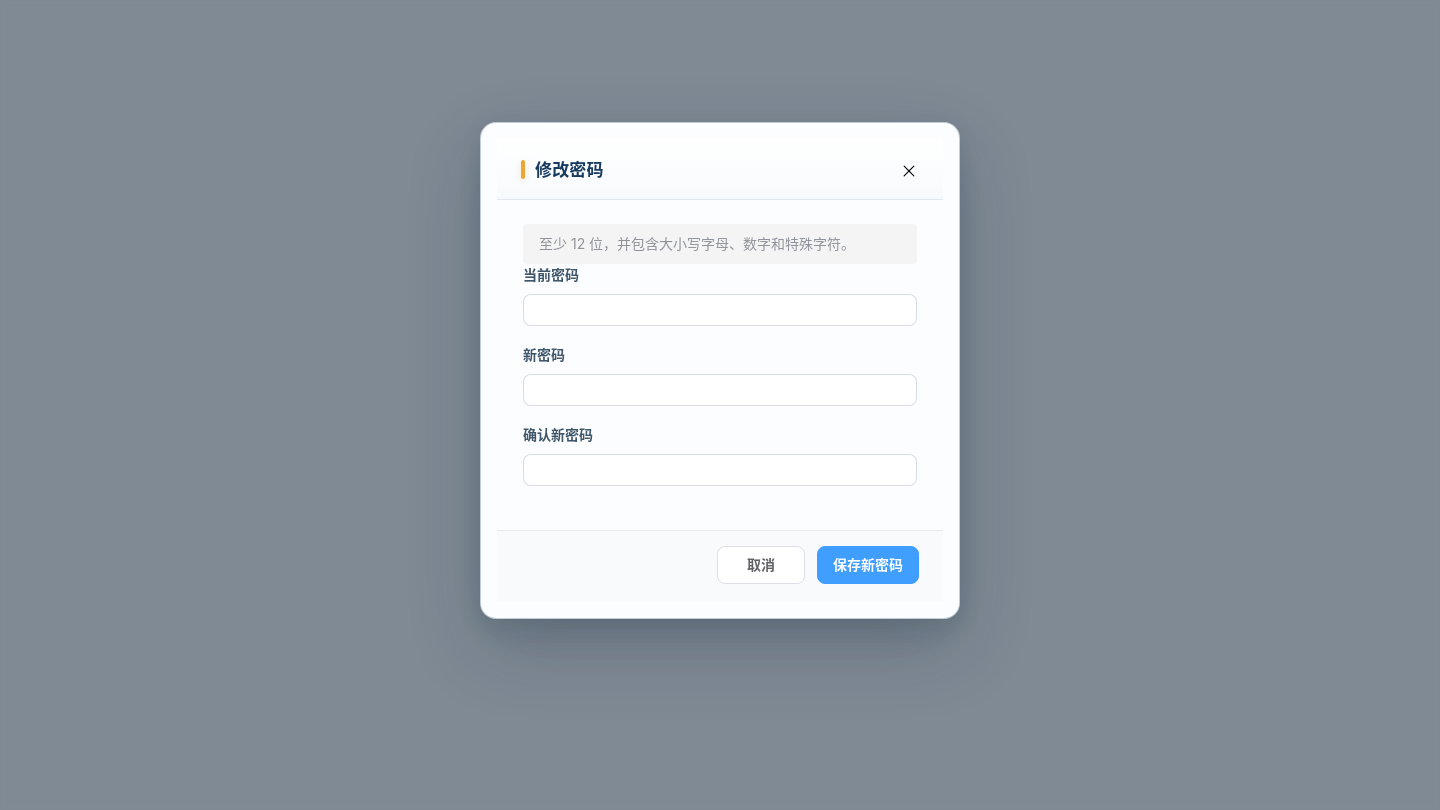
Test: ChangePasswordDialog › shows a field error instead of silently submitting a short password
In the password field labelled "当前密码": (720, 310) [534,295,906,325], type "CurrentPassword12!"
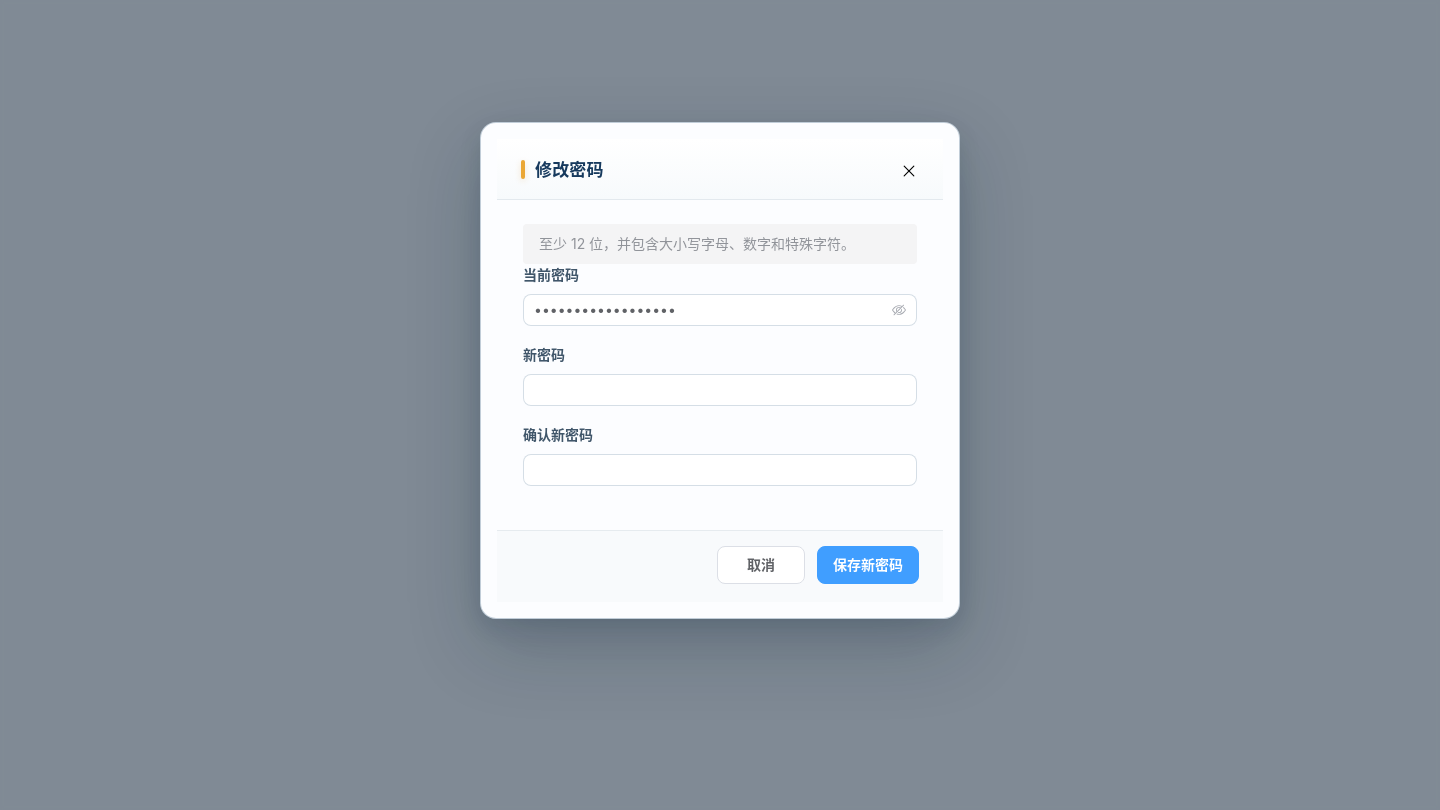
In the password field labelled "新密码": (720, 390) [534,375,906,405], type "short1"
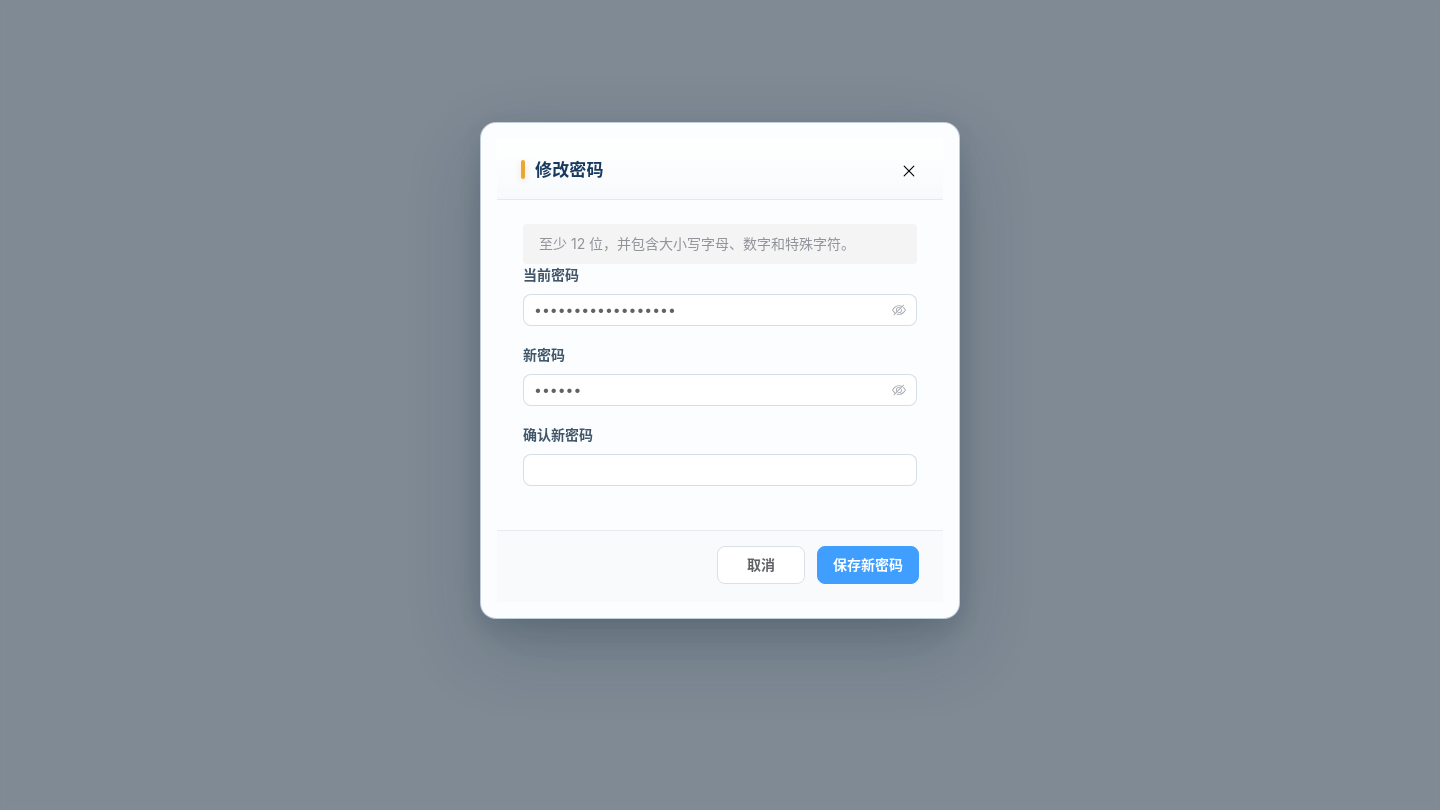
In the password field labelled "确认新密码": (720, 470) [534,455,906,485], type "short1"
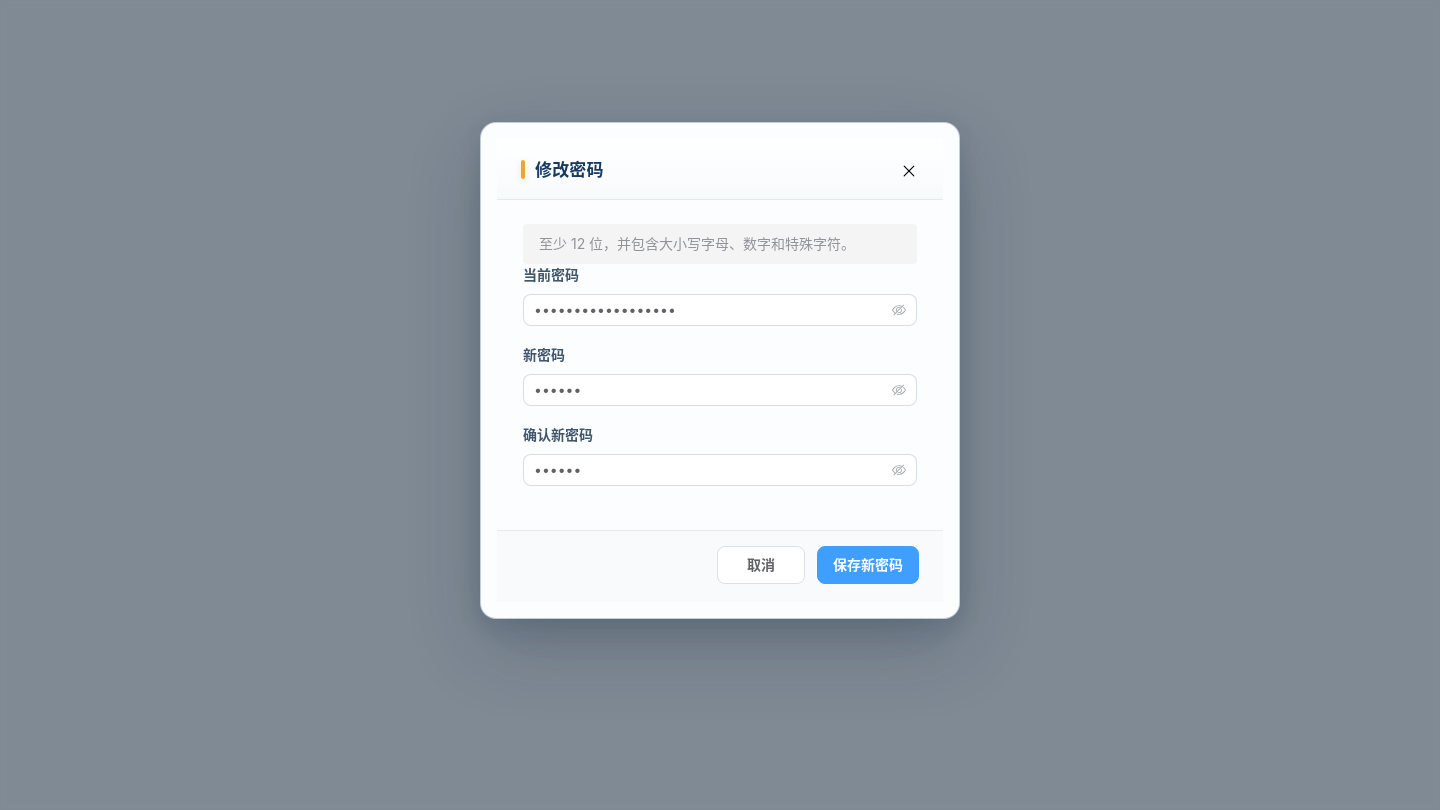
Click the button "保存新密码": (868, 565) [817,546,919,584]
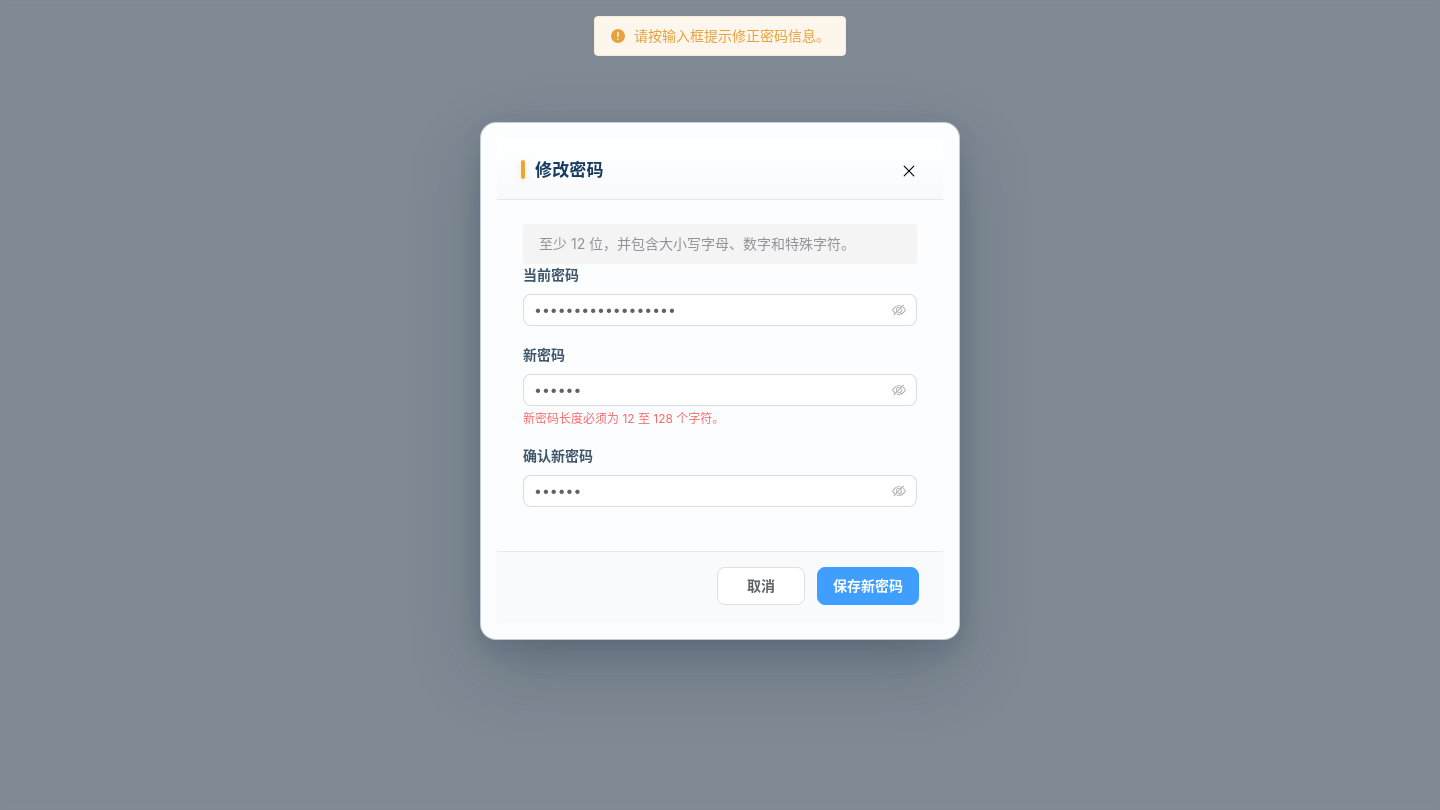
Now the text "新密码长度必须为 12 至 128 个字符。" is shown, box [523,411,724,426]
